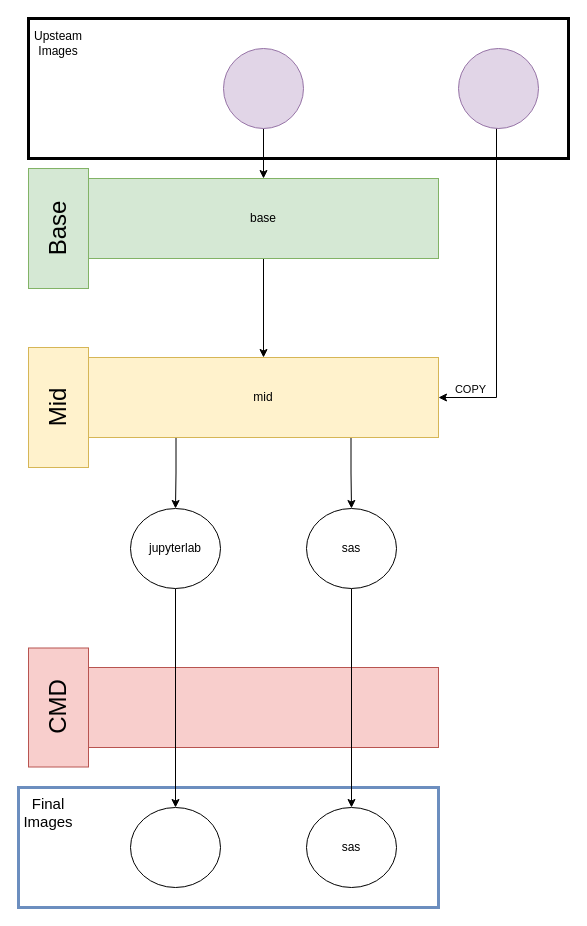
Some shapes in this 587 by 926 pixel diagram are drawn without their labels. Each missing label, with the centre of its shape:
"datascience notebook" belongs at (x=263, y=88).
"jupyterlab-cpu" belongs at (x=175, y=847).
"SASHome" belongs at (x=498, y=88).
